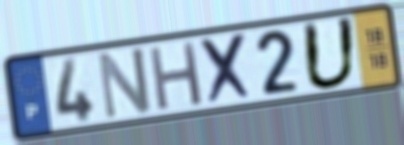2: (256, 27, 307, 100)
4: (53, 54, 97, 126)
H: (147, 38, 206, 114)
N: (95, 44, 154, 123)
U: (299, 15, 360, 93)
X: (197, 30, 256, 108)
